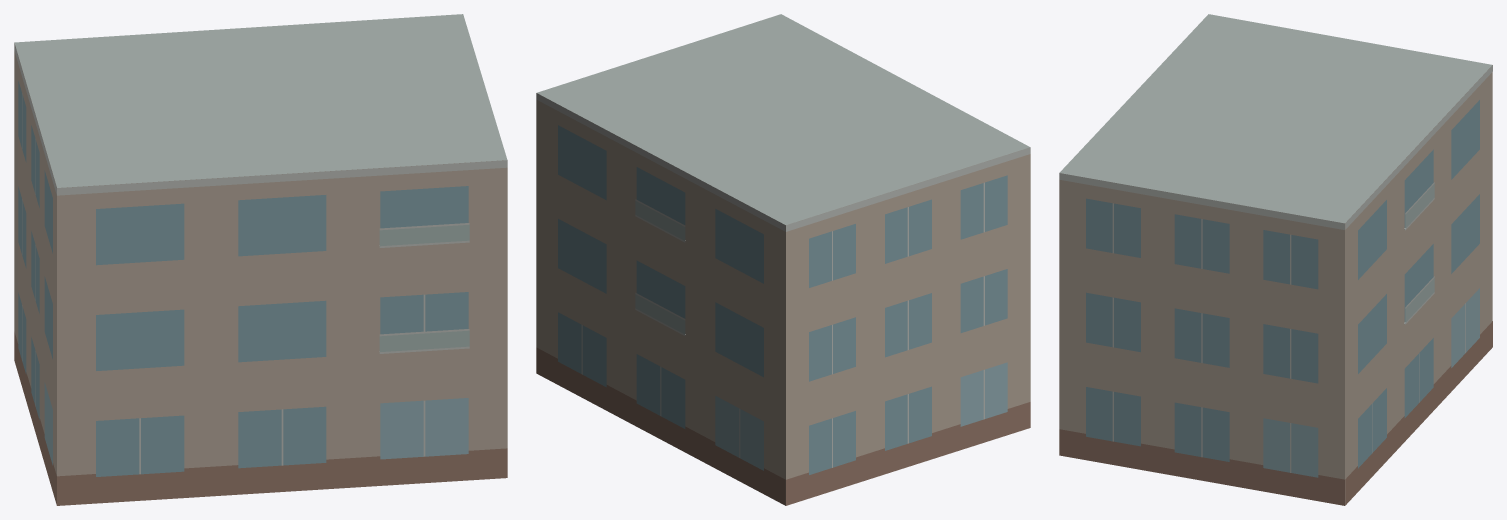
The model's file is survey-upis-32527620.glb.
The picture shows the model from 3 angles, left to right: view 1: azimuth 30°, elevation 25°; view 2: azimuth 150°, elevation 25°; view 3: azimuth 270°, elevation 25°; orthographic projection. The views are drawn at different scales.
Parts seen in each view (by area): view 1: survey-upis-32527620.tmp; view 2: survey-upis-32527620.tmp; view 3: survey-upis-32527620.tmp.
Boxes of the visible parts, x1,y1,x2,y2 form: survey-upis-32527620.tmp: (14,14,507,505); survey-upis-32527620.tmp: (536,14,1030,505); survey-upis-32527620.tmp: (1059,14,1492,505).
Bounding box in the file's own units: 16.23 × 10.2 × 14.2.
